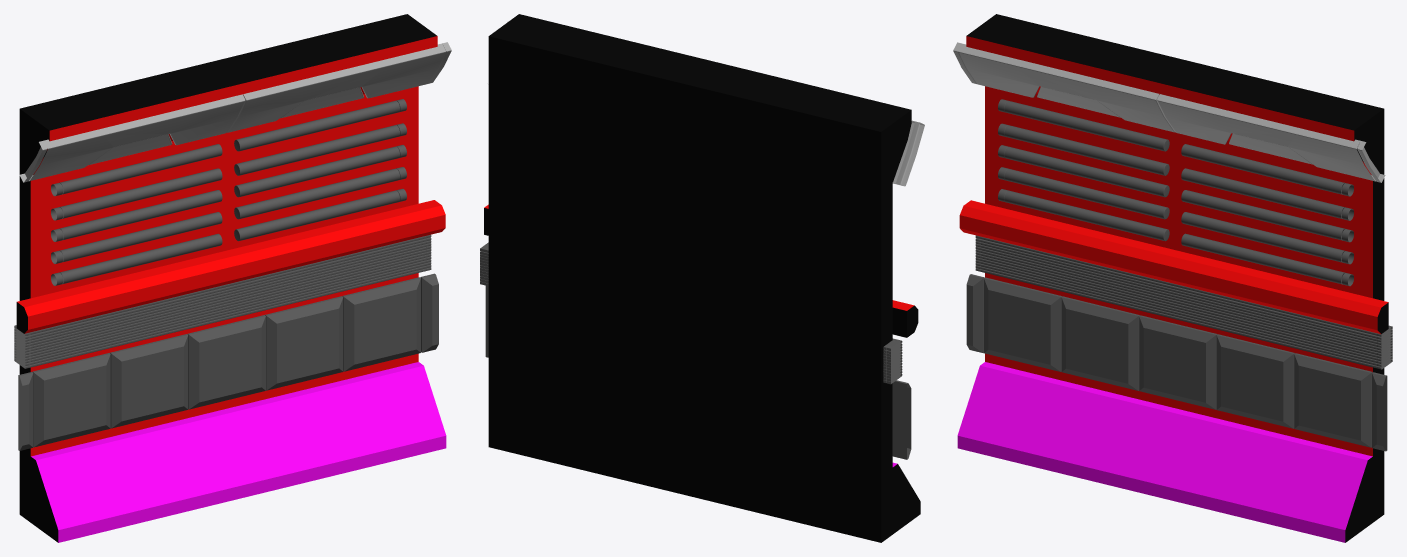
Rendered from Base_Wall_Type_2_high.fbx.
3 views of the same model, side by side, from view 1: azimuth 30°, elevation 25°; view 2: azimuth 150°, elevation 25°; view 3: azimuth 330°, elevation 25° (orthographic).
Parts seen in each view (by area): view 1: polySurface201, polySurface202, polySurface230, polySurface141, polySurface136; view 2: polySurface201, polySurface202, polySurface141, polySurface136; view 3: polySurface201, polySurface202, polySurface230, polySurface141, polySurface136.
Part boxes in pixels (<box>): polySurface201: <box>16,14,446,542</box>; polySurface202: <box>18,273,438,450</box>; polySurface230: <box>51,99,406,285</box>; polySurface141: <box>14,234,431,368</box>; polySurface136: <box>19,42,451,182</box>; polySurface201: <box>484,14,920,542</box>; polySurface202: <box>485,285,911,459</box>; polySurface141: <box>480,242,902,384</box>; polySurface136: <box>892,120,924,186</box>; polySurface201: <box>957,14,1388,542</box>; polySurface202: <box>966,274,1387,451</box>; polySurface230: <box>998,99,1353,286</box>; polySurface141: <box>975,235,1392,369</box>; polySurface136: <box>953,42,1385,182</box>.
Bounding box in the file's own units: 302 × 280 × 48.49.
